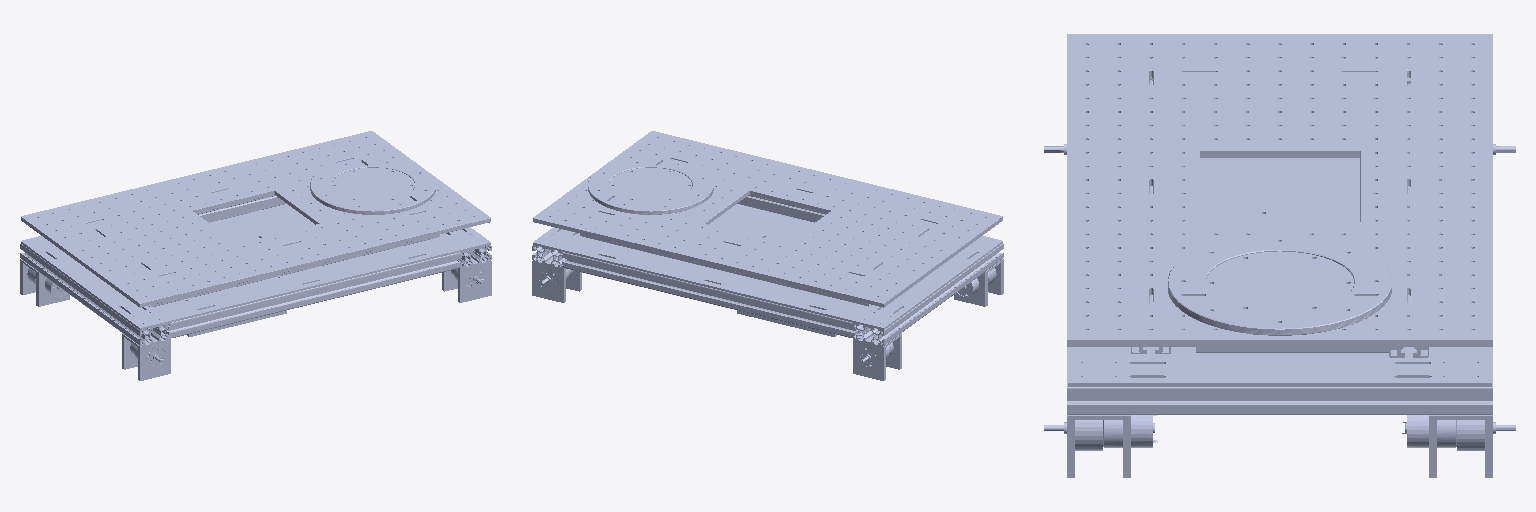
robot.urdf — hyumob:
<?xml version="1.0" encoding="utf-8"?>
<!-- This URDF was automatically created by SolidWorks to URDF Exporter! Originally created by [author] ([email redacted]) 
     Commit Version: 1.6.0-4-g7f85cfe  Build Version: 1.6.7995.38578
     For more information, please see http://wiki.ros.org/sw_urdf_exporter -->
<robot name="hyumob">
  <material name="black">
    <color rgba="0.0 0.0 0.0 1.0"/>
  </material>
  <material name="blue">
    <color rgba="0.0 0.0 0.8 1.0"/>
  </material>
  <material name="green">
    <color rgba="0.0 0.8 0.0 1.0"/>
  </material>
  <material name="grey_">
    <color rgba="0.2 0.2 0.2 1.0"/>
  </material>
  <material name="orange">
    <color rgba="1.0 0.4235294117647059 0.0392156862745098 1.0"/>
  </material>
  <material name="brown">
    <color rgba="0.8705882352941177 0.8117647058823529 0.7647058823529411 1.0"/>
  </material>
  <material name="red">
    <color rgba="0.8 0.0 0.0 1.0"/>
  </material>
  <material name="white">
    <color rgba="1.0 1.0 1.0 1.0"/>
  </material>
  <material name="metal">
    <color rgba="0.768627450980392 0.749019607843137 0.729411764705882 1"/>
  </material>
  <material name="metal_grey">
    <color rgba="0.501960784313725 0.501960784313725 0.501960784313725 1"/>
  </material>
  <material name="metal_white">
    <color rgba="0.866666666666667 0.866666666666667 0.890196078431373 1"/>
  </material>
  
  <!-- Mobile HYUMob -->
  <link name="world">
      <inertial>
          <mass value="0" />
          <origin xyz="0.0 0.0 0.0" rpy="0 0 0" />
          <inertia ixx="0" ixy="0" ixz="0" iyy="0" iyz="0" izz="0" />
      </inertial>
  </link>
  <joint name="lin_x_joint" type="prismatic">
    <origin rpy="0 0 0" xyz="0 0 0"/>
    <axis xyz="1 0 0"/>
    <limit effort="1000.0" lower="-1e+16" upper="1e+16" velocity="3.5"/>
    <joint_properties damping="1" friction="1"/>
    <parent link="world"/>
    <child link="lin_x_link"/>
  </joint>
  <link name="lin_x_link">
      <inertial>
          <mass value="0" />
          <origin xyz="0.0 0.0 0.0" rpy="0 0 0" />
          <inertia ixx="0" ixy="0" ixz="0" iyy="0" iyz="0" izz="0" />
      </inertial>
  </link>
  <joint name="lin_y_joint" type="prismatic">
    <origin rpy="0 0 0" xyz="0 0 0"/>
    <axis xyz="0 1 0"/>
    <limit effort="1000.0" lower="-1e+16" upper="1e+16" velocity="3.5"/>
    <joint_properties damping="1" friction="1"/>
    <parent link="lin_x_link"/>
    <child link="lin_y_link"/>
  </joint>
  <link name="lin_y_link">
      <inertial>
          <mass value="0" />
          <origin xyz="0.0 0.0 0.0" rpy="0 0 0" />
          <inertia ixx="0" ixy="0" ixz="0" iyy="0" iyz="0" izz="0" />
      </inertial>
  </link>
  <joint name="rot_z_joint" type="revolute">
    <origin rpy="0 0 0" xyz="0 0 0"/>
    <axis xyz="0 0 1"/>
    <limit effort="1000.0" lower="-1e+16" upper="1e+16" velocity="3.5"/>
    <joint_properties damping="1" friction="1"/>
    <parent link="lin_y_link"/>
    <child link="base_center"/>
  </joint>
  <link name="base_center">
      <inertial>
          <mass value="0" />
          <origin xyz="0.0 0.0 0.0" rpy="0 0 0" />
          <inertia ixx="0" ixy="0" ixz="0" iyy="0" iyz="0" izz="0" />
      </inertial>
  </link>
  <joint name="base_joint" type="fixed">
    <parent link="base_center"/>
    <child link="base_link"/>
    <origin rpy="0 0 0" xyz="0 0.4 0.0"/>
  </joint>
  <link
    name="base_link">
    <inertial>
      <origin
        xyz="-0.02314163 0 0.14646583"
        rpy="0 0 0" />
      <mass
        value="53.53736408" />
      <inertia
        ixx="1.81165434"
        ixy="0.01131605"
        ixz="0.08235226"
        iyy="4.92583072"
        iyz="0.00000413"
        izz="6.44882489" />
    </inertial>
    <visual>
      <origin
        xyz="0 0 0"
        rpy="0 0 0" />
      <geometry>
        <mesh
          filename="meshes/stl/base_link.STL" />
      </geometry>
      <material
        name="">
        <color
          rgba="0.79216 0.81961 0.93333 1" />
      </material>
    </visual>
    <collision>
      <origin
        xyz="0 0 0"
        rpy="0 0 0" />
      <geometry>
        <mesh
          filename="meshes/stl/base_link.STL" />
      </geometry>
    </collision>
  </link>  
</robot>

--- Render facts (derived) ---
3 views of the same robot in one strip: view 1: azimuth 30°, elevation 25°; view 2: azimuth 150°, elevation 25°; view 3: azimuth 270°, elevation 25° (orthographic).
Robot: hyumob — 5 links, 4 joints (1 revolute, 2 prismatic, 1 fixed); root link world; default pose: all joints at 0.
Visible links, largest first — view 1: base_link; view 2: base_link; view 3: base_link.
Link boxes in pixels (left/top/right/bottom): base_link: left=20, top=131, right=491, bottom=380; base_link: left=532, top=131, right=1003, bottom=380; base_link: left=1044, top=34, right=1515, bottom=477.
Bounding box of the posed robot: 0.9 × 0.586 × 0.2 m (x, y, z).
1 mesh visuals loaded from 1 distinct referenced files (1 binary STL).
